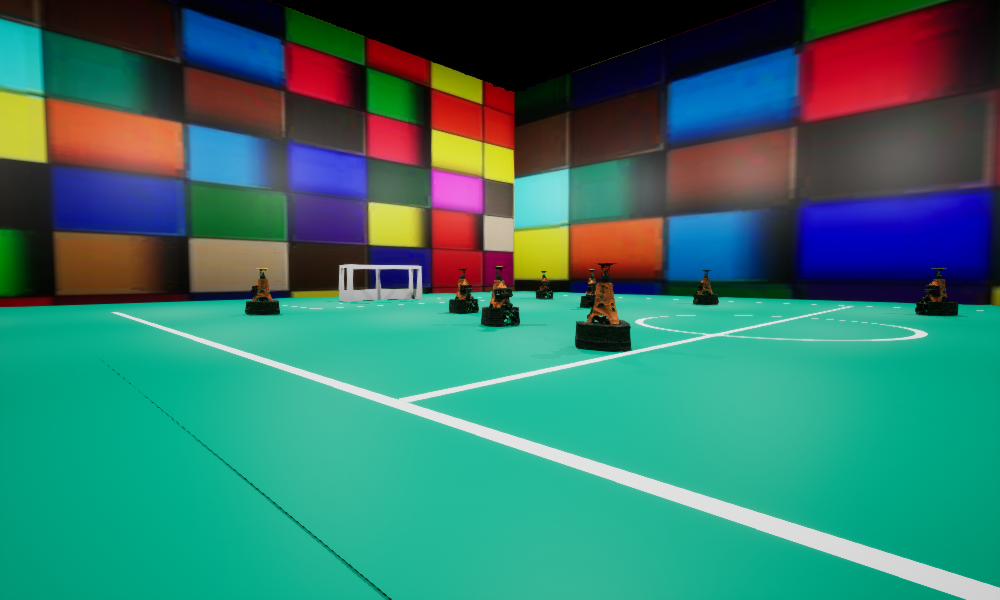0 orange robot TechUnited: (575, 262, 630, 351), (481, 266, 519, 326), (915, 268, 957, 315), (245, 268, 279, 314), (449, 269, 478, 313), (693, 270, 718, 304), (580, 269, 595, 307), (536, 271, 552, 298)
